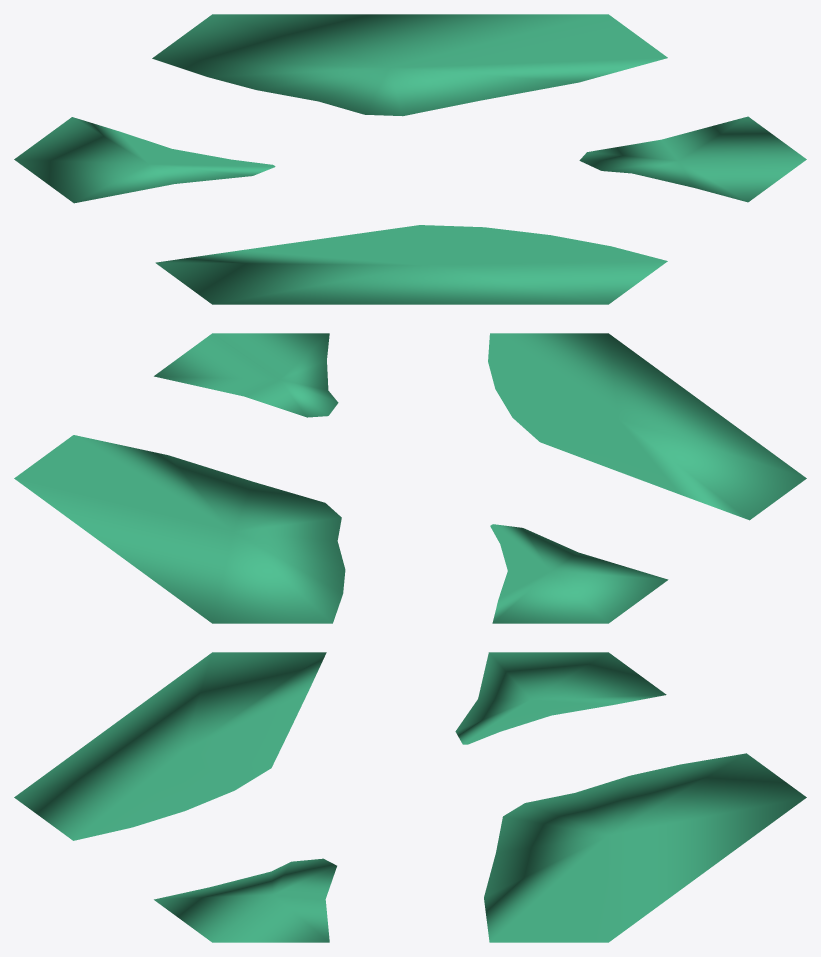
The model's file is riverJ_flat.fbx.
3 renders of one model, top to bottom at view 1: azimuth 30°, elevation 25°; view 2: azimuth 150°, elevation 25°; view 3: azimuth 270°, elevation 25°, orthographic.
Visible parts, largest first — view 1: hex_forest_roadJ_Cylinder.496; view 2: hex_forest_roadJ_Cylinder.496; view 3: hex_forest_roadJ_Cylinder.496.
Boxes of the visible parts, left/top/right/bottom form: hex_forest_roadJ_Cylinder.496: left=14, top=14, right=806, bottom=304; hex_forest_roadJ_Cylinder.496: left=14, top=333, right=806, bottom=623; hex_forest_roadJ_Cylinder.496: left=14, top=652, right=806, bottom=942.
Size of the model in its own units: 190 by 1.66e-05 by 220.
